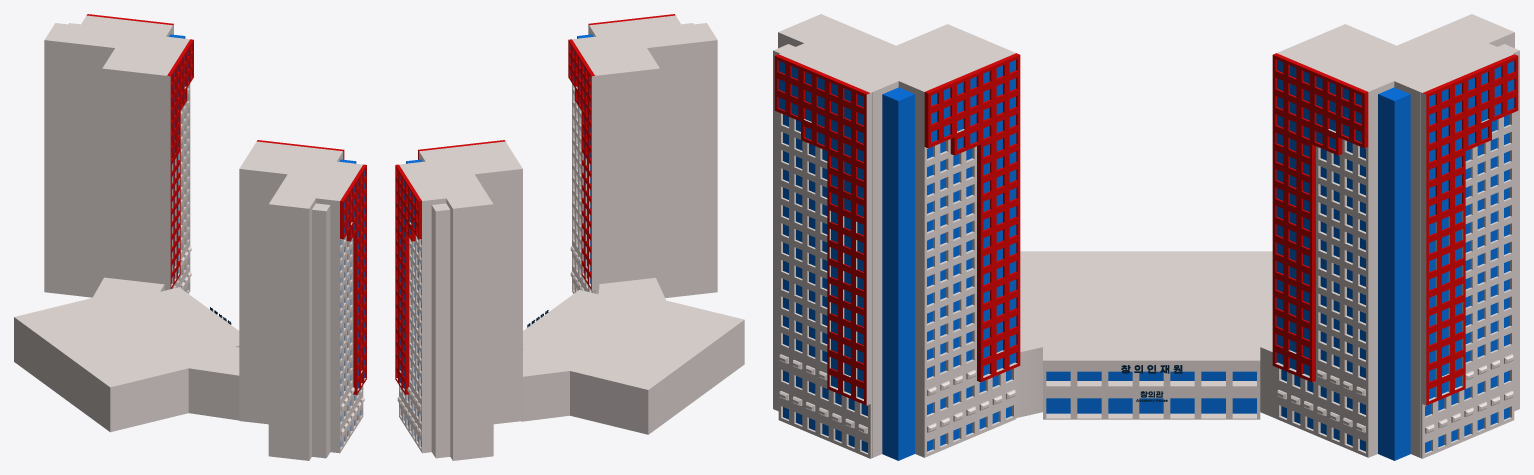
File: 창의관.fbx
3 renders of one model, left to right at view 1: azimuth 30°, elevation 25°; view 2: azimuth 150°, elevation 25°; view 3: azimuth 270°, elevation 25°, orthographic. The views are drawn at different scales.
Visible parts, largest first — view 1: 창의관1, Cube_156; view 2: 창의관1, Cube_156, Cube_162, Cube_159_2; view 3: 창의관1, Cube_156, Cube_8, Cube_159_2, Cube_159_3, Cube_162_2, Cube_162, Cube_159, Cube_160, Cube_160_2, Cube_161, Cube_161_2.
Part boxes in pixels (<box>): 창의관1: <box>44,14,366,460</box>; Cube_156: <box>14,277,239,432</box>; 창의관1: <box>395,14,717,460</box>; Cube_156: <box>521,277,744,434</box>; Cube_162: <box>397,220,404,388</box>; Cube_159_2: <box>401,238,421,446</box>; 창의관1: <box>773,14,1519,458</box>; Cube_156: <box>1016,251,1276,419</box>; Cube_8: <box>882,87,1410,460</box>; Cube_159_2: <box>783,114,1509,452</box>; Cube_159_3: <box>927,141,1365,451</box>; Cube_162_2: <box>983,133,1309,375</box>; Cube_162: <box>831,156,1461,399</box>; Cube_159: <box>1046,371,1256,413</box>; Cube_160: <box>778,61,1514,143</box>; Cube_160_2: <box>931,60,1361,142</box>; Cube_161: <box>805,127,1487,161</box>; Cube_161_2: <box>957,115,1335,149</box>.
Size of the model in its own units: 965 by 1131 by 2080.
